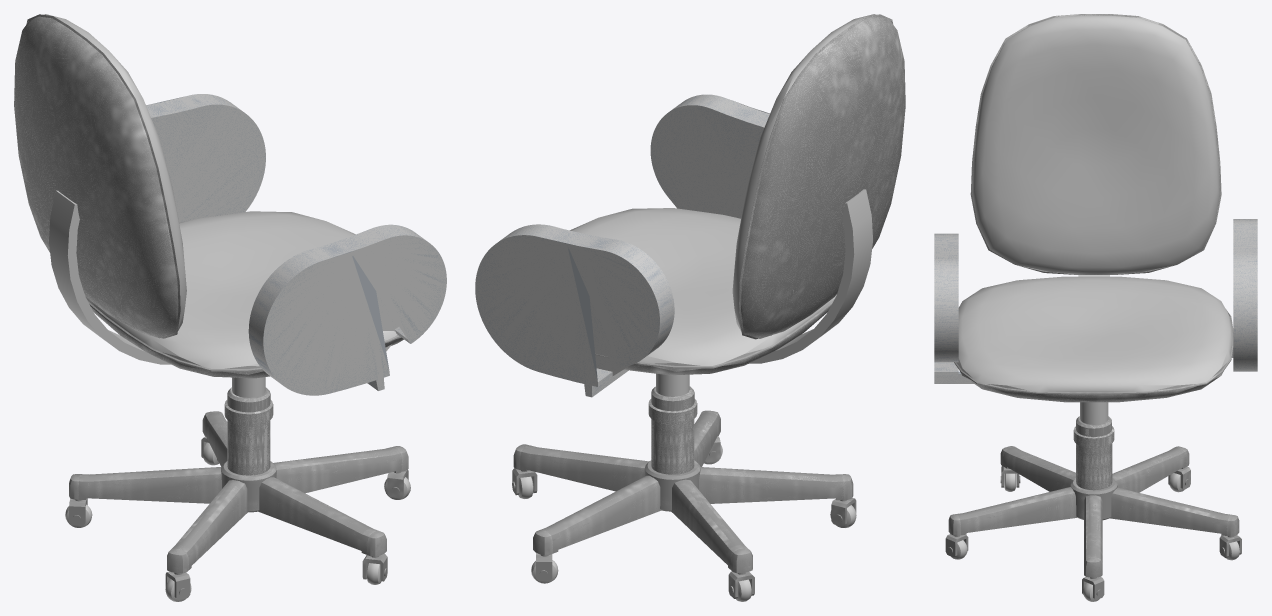
File: Office chair.fbx
3 views of the same model, side by side, from view 1: azimuth 30°, elevation 25°; view 2: azimuth 150°, elevation 25°; view 3: azimuth 270°, elevation 25° (orthographic). The views are drawn at different scales.
Parts seen in each view (by area): view 1: Group1; view 2: Group1; view 3: Group1.
Boxes of the visible parts, left/top/right/bottom form: Group1: left=14, top=14, right=446, bottom=601; Group1: left=475, top=14, right=905, bottom=601; Group1: left=934, top=14, right=1257, bottom=601.
Size of the model in its own units: 77.03 by 114 by 73.3.
